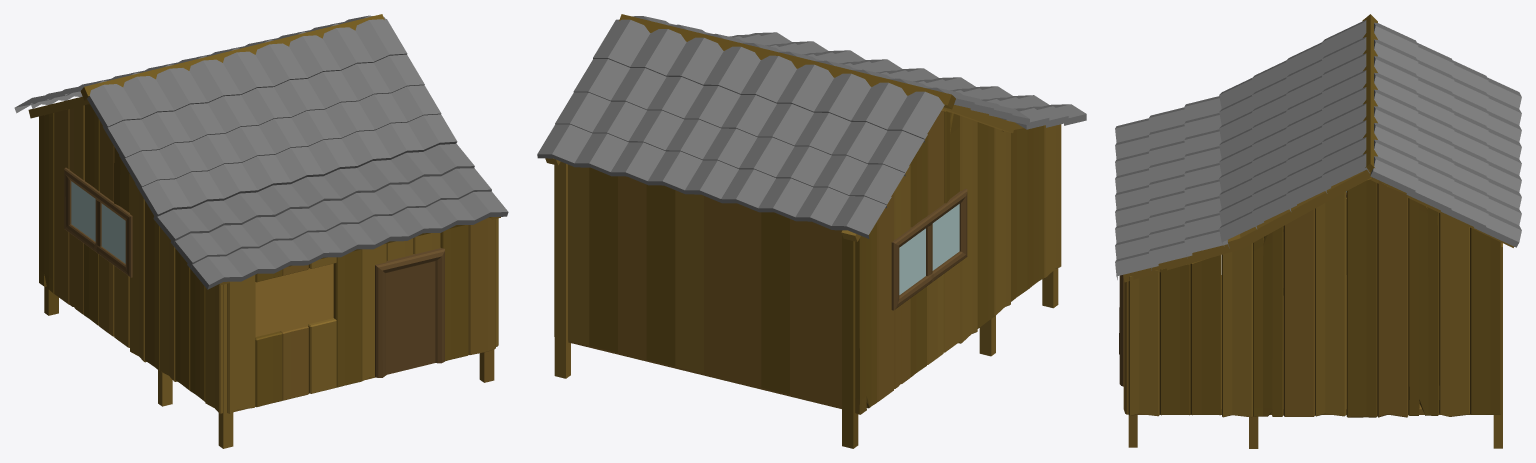
File: casinha3-LowPoly_-_Parede_Solta (1).fbx
The picture shows the model from 3 angles, left to right: view 1: azimuth 30°, elevation 25°; view 2: azimuth 150°, elevation 25°; view 3: azimuth 270°, elevation 25°; orthographic projection. The views are drawn at different scales.
Visible parts, largest first — view 1: estrutura.003, newTelha.020, newTelha.019, newTelha.017, newTelha.018, newTelha.023, newTelha.021, newTelha.022, base.001, Cube.001, estrutura.002, newTelha.013; view 2: estrutura.000, estrutura.003, newTelha.013, newTelha.016, newTelha.014, newTelha.015, base.001, estrutura.002, newTelha.023, newTelha.022, newTelha.020, newTelha.021 (+1 smaller); view 3: estrutura.003, newTelha.013, newTelha.020, base.001, newTelha.014, newTelha.015, newTelha.019, newTelha.021, newTelha.022, newTelha.016, newTelha.018, newTelha.023 (+2 smaller).
Part boxes in pixels (left/top/right/bottom): estrutura.003: left=39, top=104, right=498, bottom=413; newTelha.020: left=87, top=19, right=407, bottom=130; newTelha.019: left=102, top=54, right=424, bottom=161; newTelha.017: left=135, top=114, right=457, bottom=218; newTelha.018: left=119, top=85, right=441, bottom=190; newTelha.023: left=187, top=191, right=508, bottom=289; newTelha.021: left=153, top=143, right=474, bottom=243; newTelha.022: left=170, top=168, right=491, bottom=267; base.001: left=28, top=14, right=500, bottom=448; Cube.001: left=233, top=263, right=423, bottom=412; estrutura.002: left=64, top=167, right=132, bottom=277; newTelha.013: left=65, top=15, right=385, bottom=99; estrutura.000: left=568, top=164, right=841, bottom=407; estrutura.003: left=554, top=109, right=1061, bottom=414; newTelha.013: left=593, top=19, right=944, bottom=142; newTelha.016: left=537, top=124, right=891, bottom=238; newTelha.014: left=573, top=59, right=927, bottom=176; newTelha.015: left=555, top=92, right=909, bottom=208; base.001: left=545, top=14, right=1058, bottom=448; estrutura.002: left=891, top=188, right=967, bottom=310; newTelha.023: left=749, top=32, right=1086, bottom=125; newTelha.022: left=732, top=34, right=1068, bottom=127; newTelha.020: left=632, top=16, right=974, bottom=108; newTelha.021: left=729, top=36, right=1049, bottom=129; estrutura.003: left=1119, top=177, right=1501, bottom=417; newTelha.013: left=1370, top=22, right=1418, bottom=195; newTelha.020: left=1322, top=20, right=1369, bottom=193; base.001: left=1123, top=14, right=1513, bottom=448; newTelha.014: left=1406, top=42, right=1454, bottom=213; newTelha.015: left=1441, top=60, right=1488, bottom=231; newTelha.019: left=1286, top=42, right=1330, bottom=211; newTelha.021: left=1184, top=96, right=1229, bottom=258; newTelha.022: left=1149, top=107, right=1192, bottom=270; newTelha.016: left=1474, top=77, right=1521, bottom=247; newTelha.018: left=1252, top=60, right=1296, bottom=229; newTelha.023: left=1115, top=118, right=1158, bottom=279.
Bounding box in the file's own units: 718 × 637 × 812.
